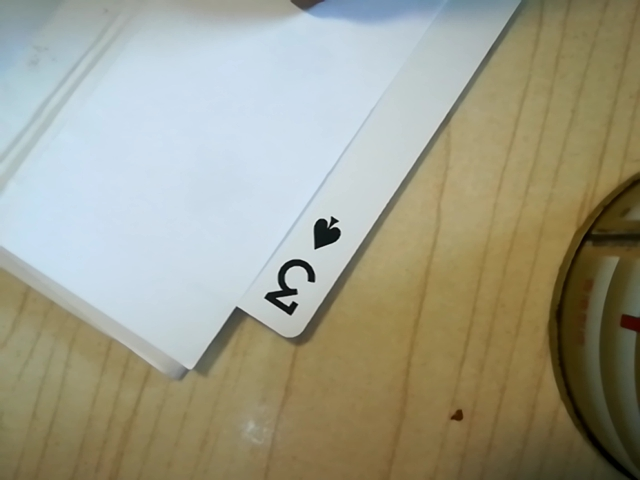ht 3: (247, 205, 352, 328)
